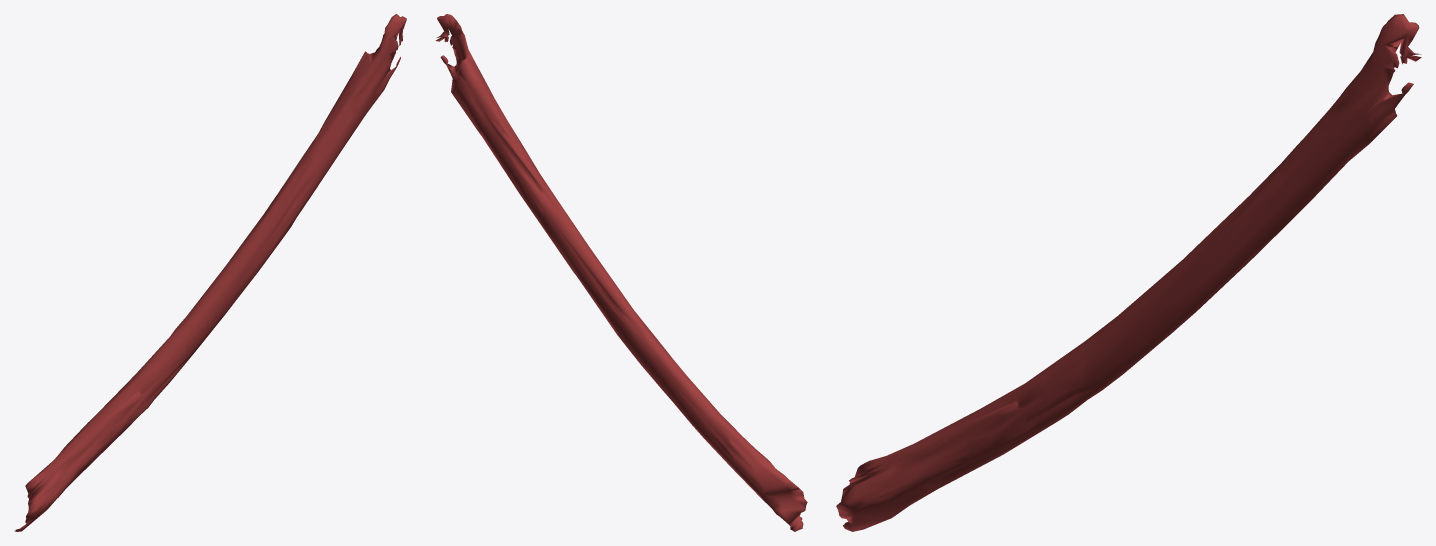
The model's file is inguinal-ligament-l.glb.
3 views of the same model, side by side, from view 1: azimuth 30°, elevation 25°; view 2: azimuth 150°, elevation 25°; view 3: azimuth 330°, elevation 25° (orthographic). The views are drawn at different scales.
Parts seen in each view (by area): view 1: Inguinal ligament.l; view 2: Inguinal ligament.l; view 3: Inguinal ligament.l.
Boxes of the visible parts, x1=… form: Inguinal ligament.l: x1=14, y1=14, x2=406, y2=531; Inguinal ligament.l: x1=435, y1=14, x2=807, y2=531; Inguinal ligament.l: x1=836, y1=14, x2=1421, y2=531.
Size of the model in its own units: 0.1046 by 0.1132 by 0.00929.
